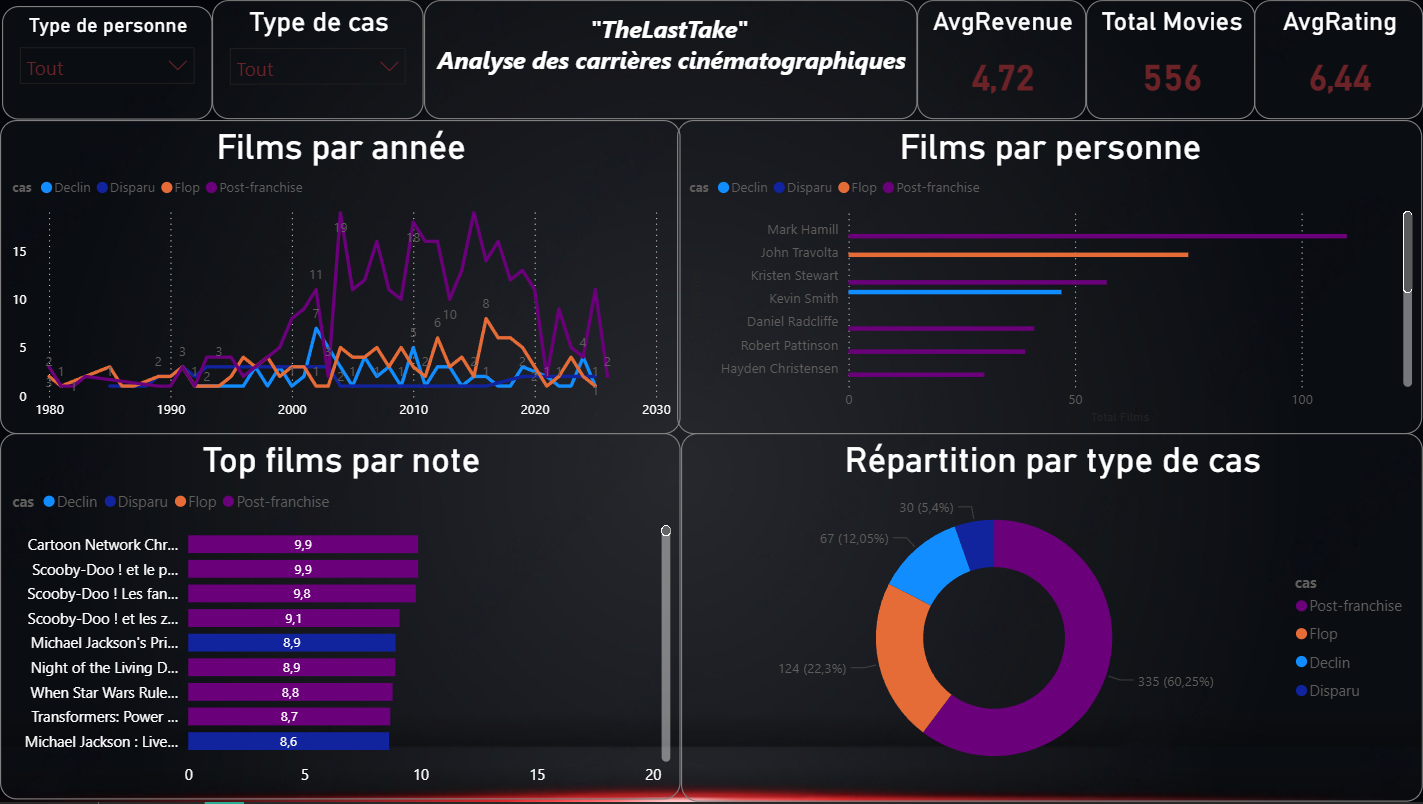

The page's visual inventory and layout, read from the dashboard file:
{"tool":"powerbi","page":{"name":"Final_report","canvas":[1280,720],"ordinal":0},"visuals":[{"type":"lineChart","title":"Films par année","fields":{"Category":["thelasttake_clean.annee"],"Y":["thelasttake_clean.Total Films"],"Series":["thelasttake_clean.cas"]},"box":[0,107.3,615.4,281.3],"z":0},{"type":"barChart","title":"Top films par note /10","fields":{"Category":["thelasttake_clean.film"],"Y":["thelasttake_clean.Note moyenne"],"Series":["thelasttake_clean.cas"]},"box":[0,388.6,379.8,330.5],"z":1000},{"type":"card","title":"Note TMDB moyenne","fields":{"Values":["thelasttake_clean.Note moyenne"]},"box":[1126.2,0,152.4,107.4],"z":2000},{"type":"card","title":"Total films","fields":{"Values":["thelasttake_clean.Total Films"]},"box":[975.2,0,152.4,107.4],"z":3000},{"type":"clusteredBarChart","title":" Films par personne","fields":{"Category":["thelasttake_clean.personne"],"Y":["thelasttake_clean.Total Films"],"Series":["thelasttake_clean.cas"]},"box":[615.4,107.3,661.1,281.3],"z":4000},{"type":"card","title":"Popularité moyenne","fields":{"Values":["thelasttake_clean.Popularité moyenne"]},"box":[822.9,0,152.4,107.4],"z":5000},{"type":"slicer","title":"Type de personne","fields":{"Values":["DIM_Personne.type_personne"]},"box":[1.5,5.8,188.7,101.6],"z":6000},{"type":"slicer","title":"Type de cas","fields":{"Values":["DIM_Personne.cas"]},"box":[190.1,0,190.1,107.4],"z":7000},{"type":"textbox","box":[380.2,0,442.6,107.4],"z":8000},{"type":"donutChart","title":"Répartition par type de cas","fields":{"Category":["thelasttake_clean.cas"],"Y":["thelasttake_clean.Total Films"]},"box":[379.8,390.3,379.8,330.5],"z":9000},{"type":"tableEx","fields":{"Values":["thelasttake_clean.personne","thelasttake_clean.film","Sum(thelasttake_clean.note_tmdb)","Sum(thelasttake_clean.nb_votes_tmdb)","thelasttake_clean.cas","thelasttake_clean.statut_carriere"]},"box":[759.6,388.6,520.4,332.3],"z":9001}]}

Visuals, with their boxes in screenshot pixels (x1, y1, x2, y2), scaled from the page's 1280x720 canvas onto the 1423x804 screenshot:
"Films par année" lineChart: pyautogui.locateOnScreen(0, 120, 684, 434)
"Top films par note /10" barChart: pyautogui.locateOnScreen(0, 434, 422, 803)
"Note TMDB moyenne" card: pyautogui.locateOnScreen(1252, 0, 1421, 120)
"Total films" card: pyautogui.locateOnScreen(1084, 0, 1254, 120)
" Films par personne" clusteredBarChart: pyautogui.locateOnScreen(684, 120, 1419, 434)
"Popularité moyenne" card: pyautogui.locateOnScreen(915, 0, 1084, 120)
"Type de personne" slicer: pyautogui.locateOnScreen(2, 6, 211, 120)
"Type de cas" slicer: pyautogui.locateOnScreen(211, 0, 423, 120)
textbox: pyautogui.locateOnScreen(423, 0, 915, 120)
"Répartition par type de cas" donutChart: pyautogui.locateOnScreen(422, 436, 844, 803)
tableEx - thelasttake_clean.personne x thelasttake_clean.film: pyautogui.locateOnScreen(844, 434, 1422, 803)
